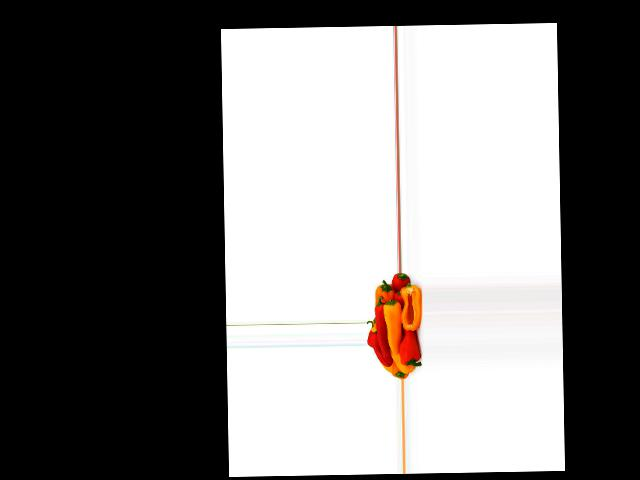bell_pepper: (388, 272, 409, 303)
